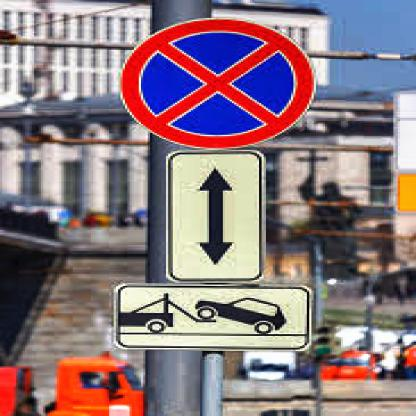No stopping: (115, 13, 312, 150)
